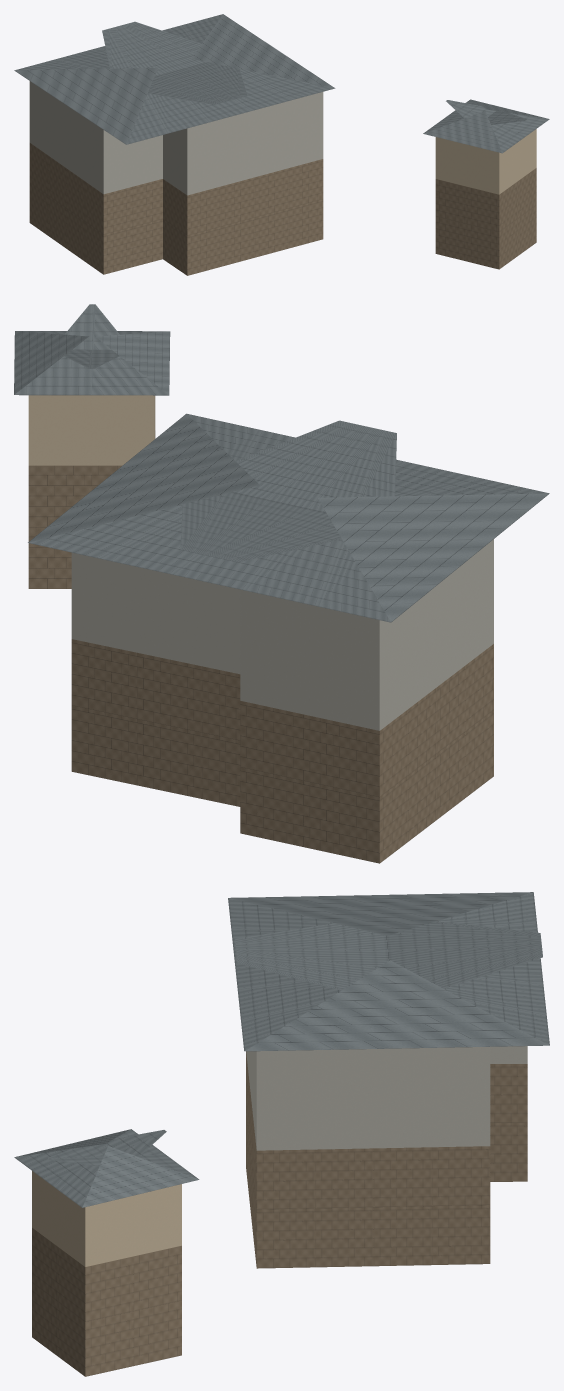
The model's file is bld_c23_29_394.gltf.
The picture shows the model from 3 angles, top to bottom: view 1: azimuth 30°, elevation 25°; view 2: azimuth 150°, elevation 25°; view 3: azimuth 270°, elevation 25°; orthographic projection. The views are drawn at different scales.
Visible parts, largest first — view 1: bld_c23_29_394; view 2: bld_c23_29_394; view 3: bld_c23_29_394.
Boxes of the visible parts, x1,y1,x2,y2 form: bld_c23_29_394: [14, 14, 549, 275]; bld_c23_29_394: [14, 304, 549, 863]; bld_c23_29_394: [14, 892, 549, 1376].
Bounding box in the file's own units: 24.72 × 10.4 × 20.49.
Materials: 4 (4 with a texture image).
